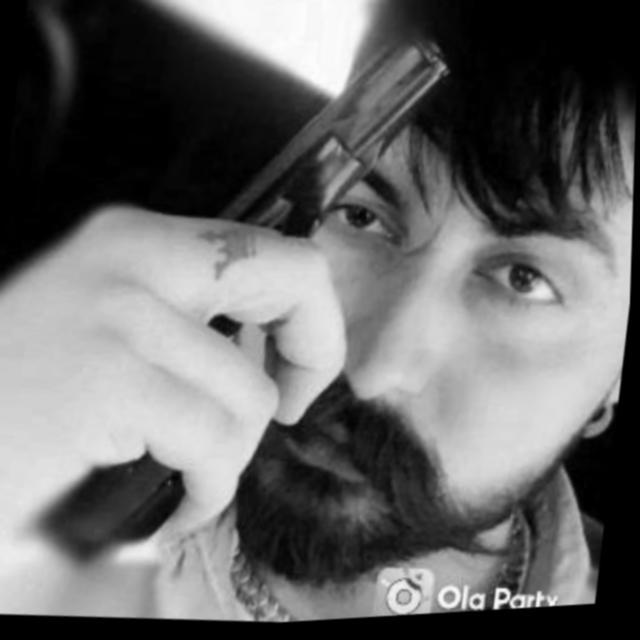weapon: (21, 1, 463, 608)
